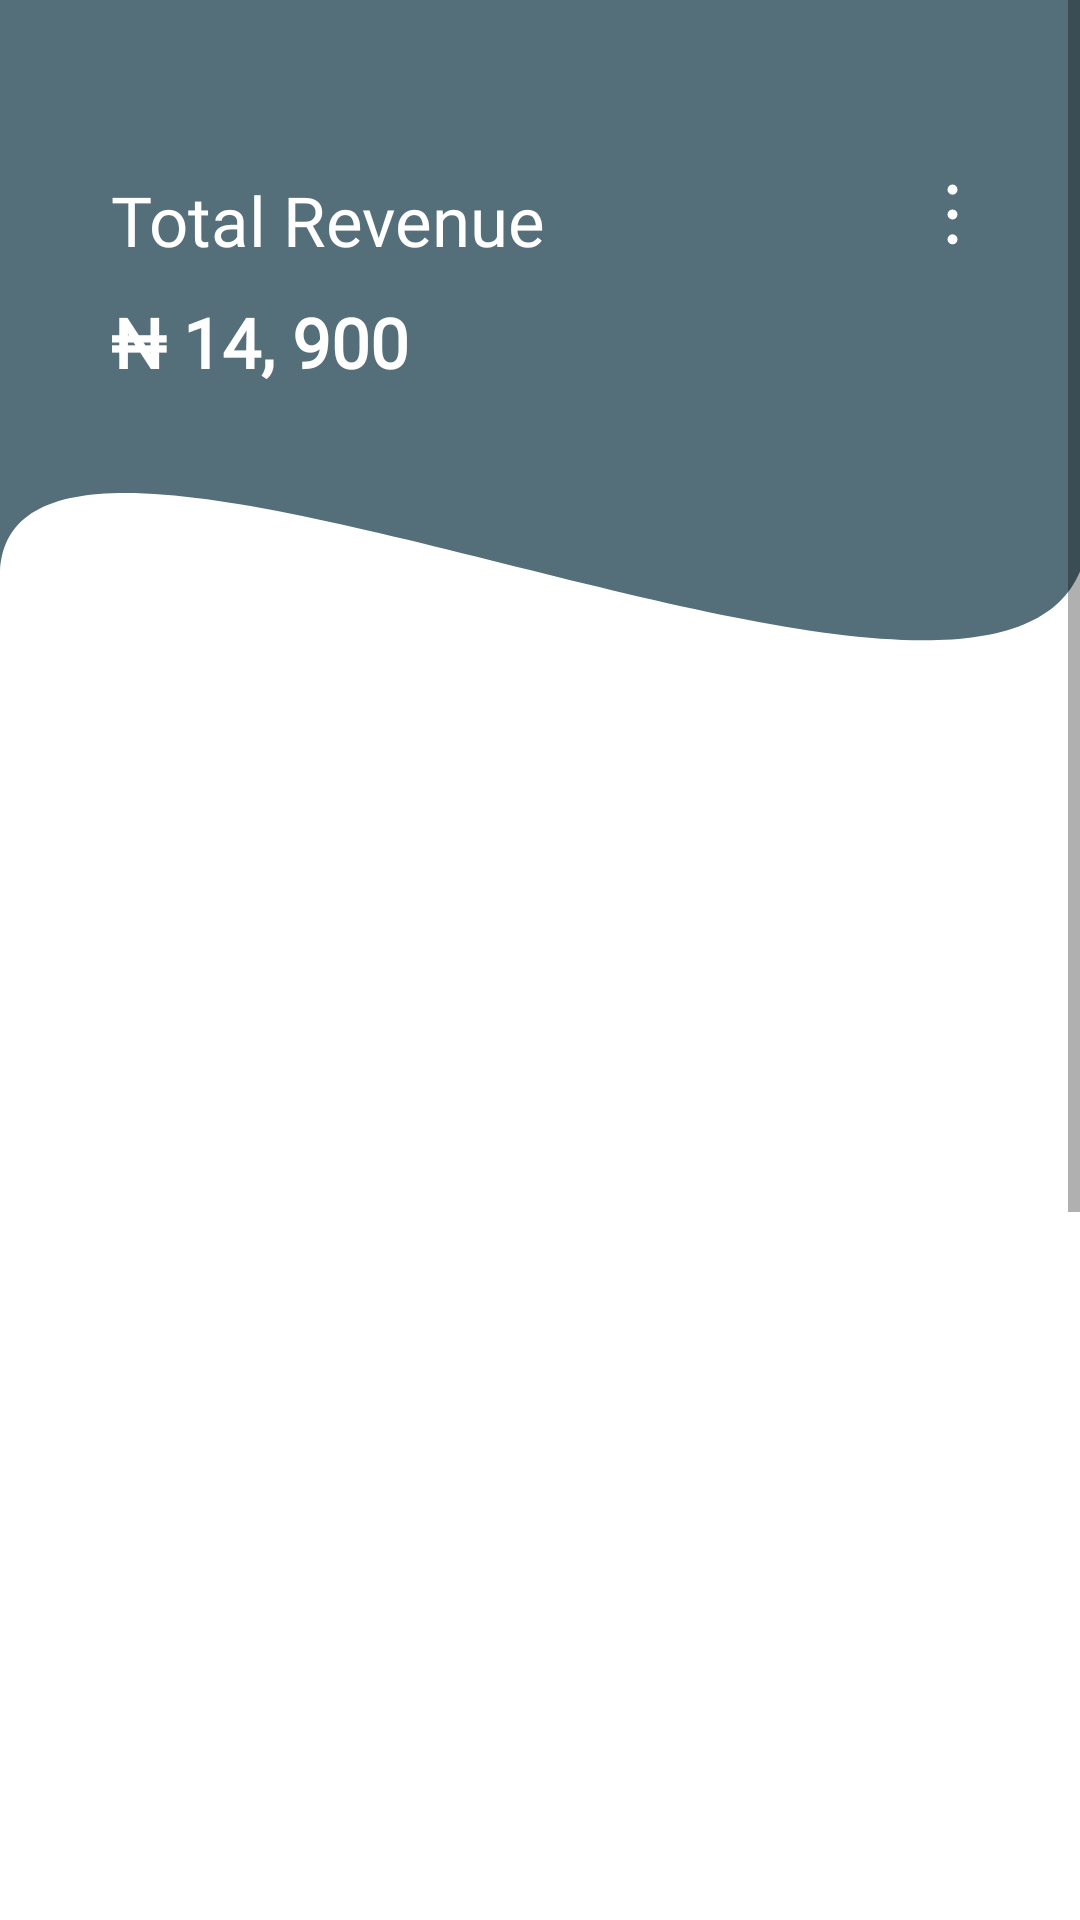

Icon click points for this 1080x1920 phone screenshot, format point (x, y):
more vert: point (952, 214)
